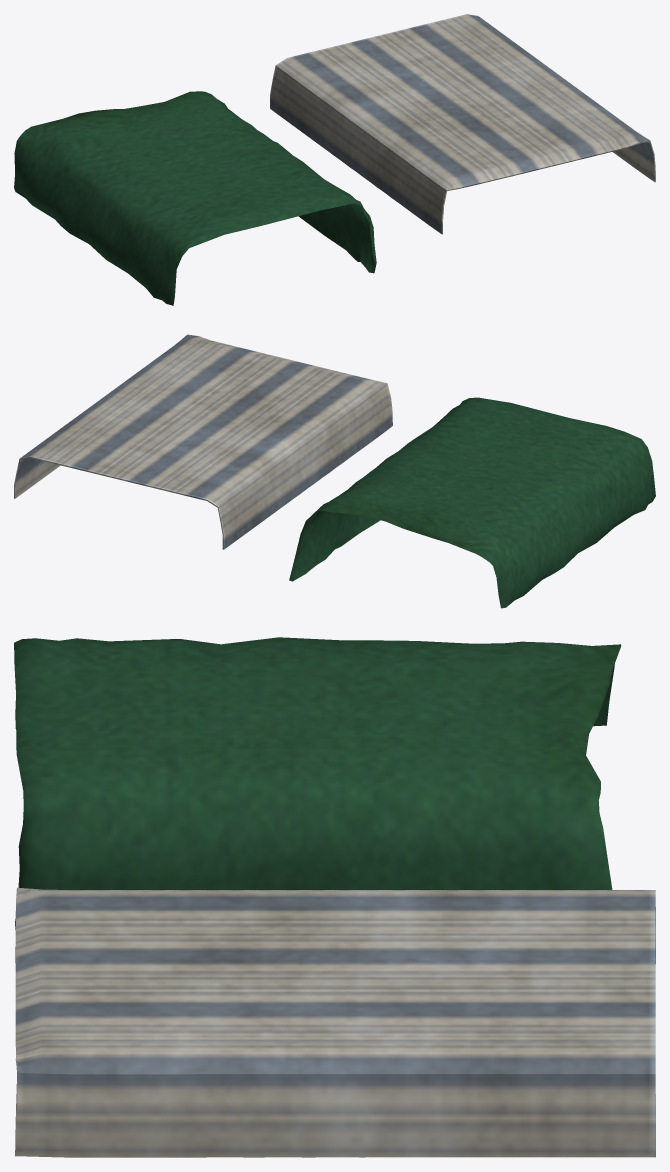
The model's file is single_bedsheet.fbx.
3 renders of one model, top to bottom at view 1: azimuth 30°, elevation 25°; view 2: azimuth 150°, elevation 25°; view 3: azimuth 270°, elevation 25°, orthographic. The views are drawn at different scales.
Visible parts, largest first — view 1: single_bedsheet_2, single_bedsheed_1; view 2: single_bedsheet_2, single_bedsheed_1; view 3: single_bedsheet_2, single_bedsheed_1.
Part boxes in pixels (x1,y1,x2,y2): single_bedsheet_2: (270,14,655,234); single_bedsheed_1: (14,91,376,305); single_bedsheet_2: (14,334,392,549); single_bedsheed_1: (289,397,655,608); single_bedsheet_2: (15,887,655,1157); single_bedsheed_1: (14,637,621,929).
Bounding box in the file's own units: 3.05 × 0.4909 × 1.87.
